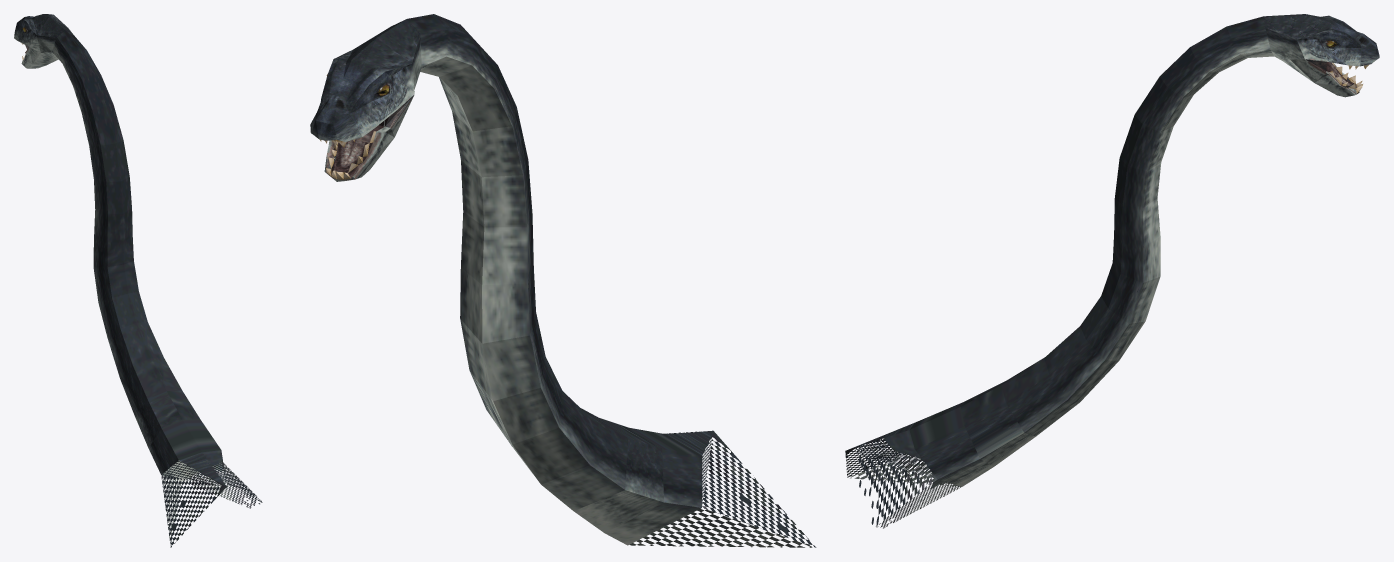
The model's file is zPlesiosaurus(original neck model).fbx.
3 renders of one model, left to right at view 1: azimuth 30°, elevation 25°; view 2: azimuth 150°, elevation 25°; view 3: azimuth 270°, elevation 25°, orthographic. The views are drawn at different scales.
Parts seen in each view (by area): view 1: plesiosaurus0; view 2: plesiosaurus0; view 3: plesiosaurus0.
Part boxes in pixels (x1,y1,x2,y2): plesiosaurus0: (14, 14, 262, 547); plesiosaurus0: (310, 14, 816, 547); plesiosaurus0: (845, 14, 1379, 528).
Size of the model in its own units: 1488 by 4967 by 4814.
